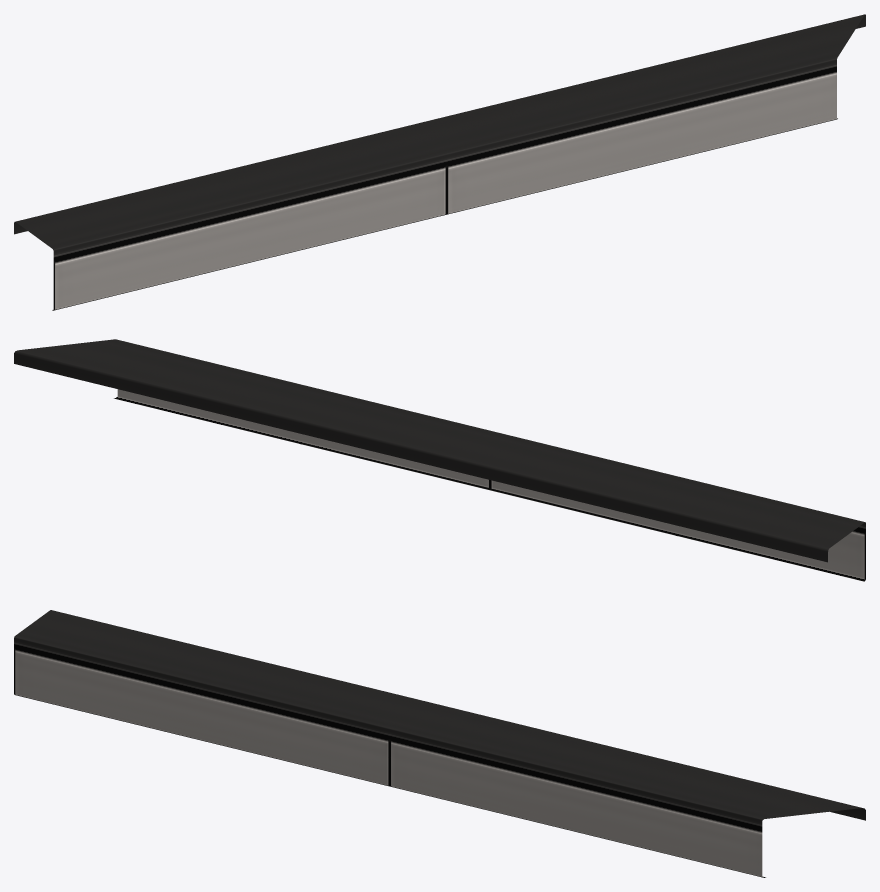
Rendered from RoofTrim_3_InnerCorner.fbx.
3 renders of one model, top to bottom at view 1: azimuth 30°, elevation 25°; view 2: azimuth 150°, elevation 25°; view 3: azimuth 330°, elevation 25°, orthographic. The views are drawn at different scales.
Parts seen in each view (by area): view 1: RoofTrim_3_InnerCorner; view 2: RoofTrim_3_InnerCorner; view 3: RoofTrim_3_InnerCorner.
Boxes of the visible parts, box(x1,y1,x2,y2) form: RoofTrim_3_InnerCorner: box(14, 14, 865, 310); RoofTrim_3_InnerCorner: box(14, 339, 865, 581); RoofTrim_3_InnerCorner: box(14, 610, 865, 877).
Bounding box in the file's own units: 325 × 22.44 × 26.21.
